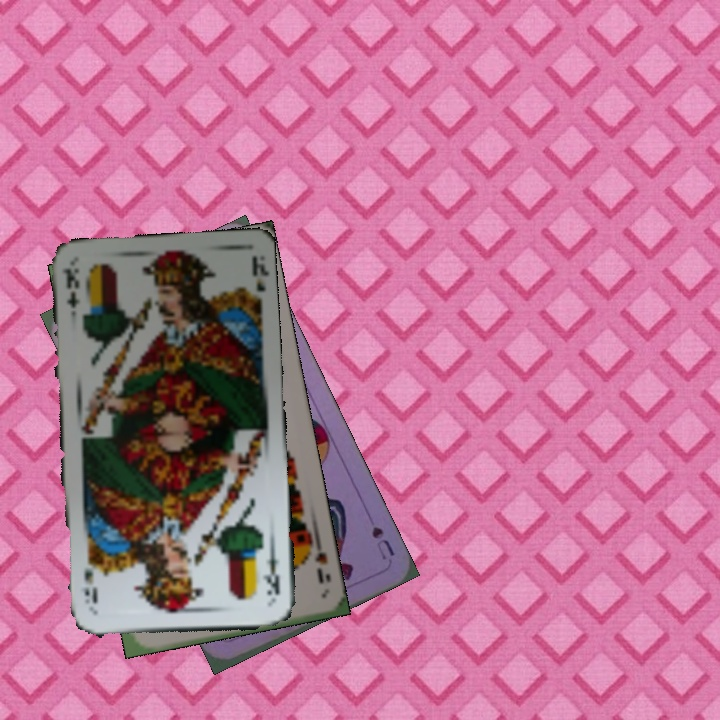EK: (58, 264, 82, 324), (259, 543, 283, 602)
S9: (307, 532, 330, 586)
SU: (367, 522, 397, 563)
